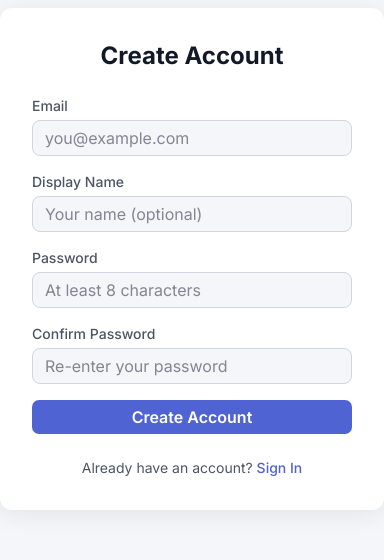
Test case: SignUpPage › shows error when password is too short
In the field labelled "Email": (192, 138) [32, 120, 352, 156], type "new@example.com"
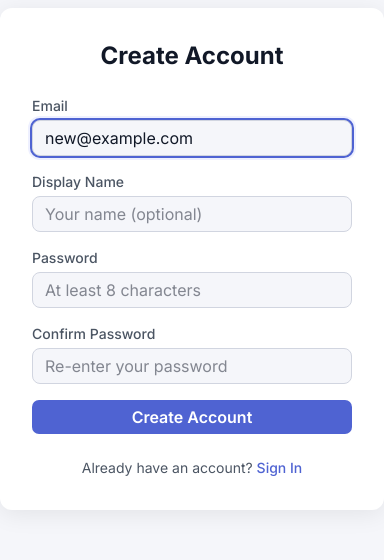
In the password field labelled "Password": (192, 290) [32, 272, 352, 308], type "short"
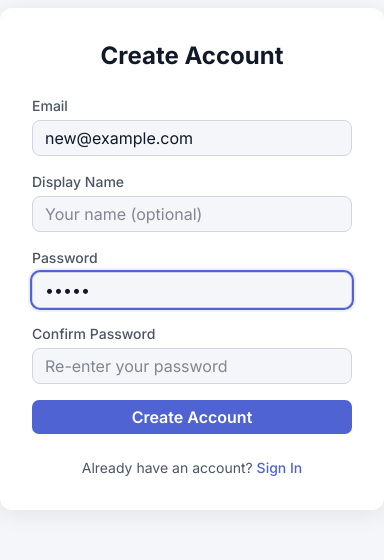
In the password field labelled "Confirm Password": (192, 366) [32, 348, 352, 384], type "short"
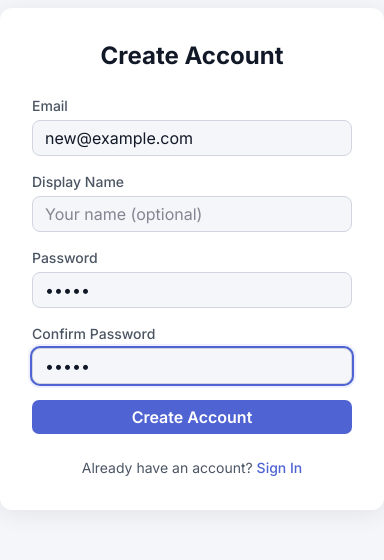
Click the button "Create Account": (192, 417) [32, 400, 352, 434]
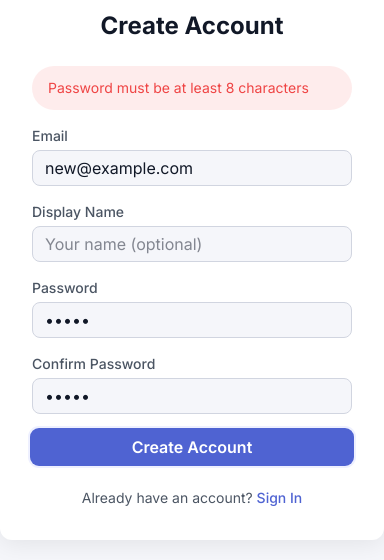
Check: the message shows "at least 8 characters", box [48, 79, 309, 96]
